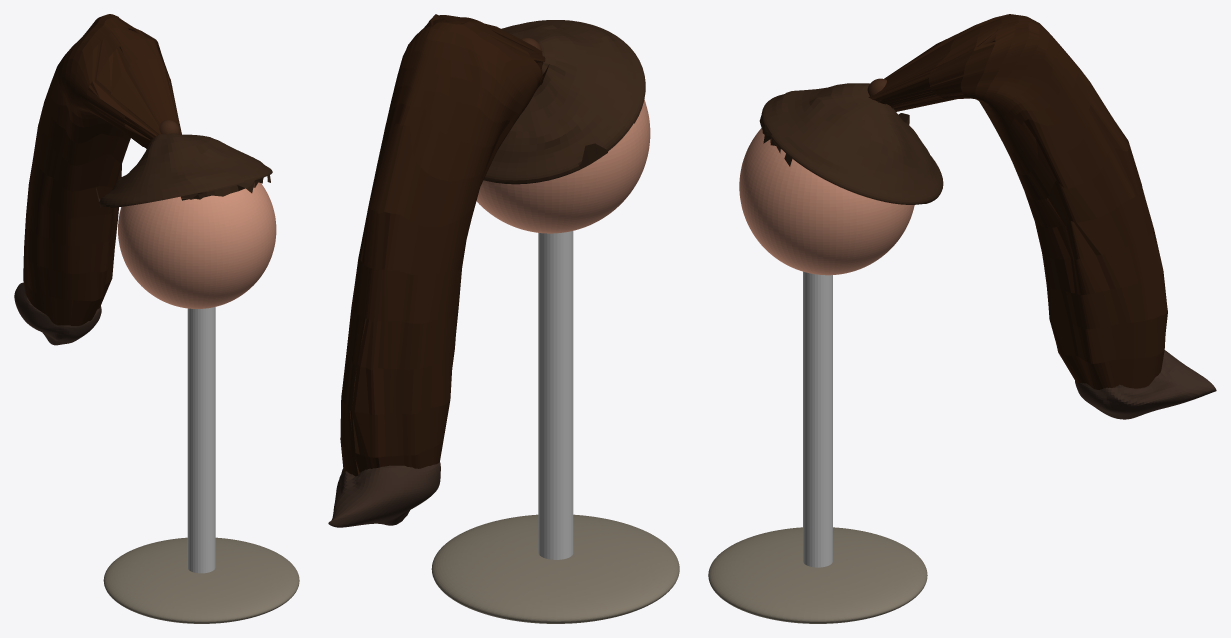
The model's file is ariana grande ponytail Colored.glb.
3 views of the same model, side by side, from view 1: azimuth 30°, elevation 25°; view 2: azimuth 150°, elevation 25°; view 3: azimuth 270°, elevation 25° (orthographic). The views are drawn at different scales.
Visible parts, largest first — view 1: Sphere, Sphere.003, Sphere.004; view 2: Sphere, Sphere.003, Sphere.004; view 3: Sphere, Sphere.003, Sphere.004.
Part boxes in pixels (x1,y1,x2,y2): Sphere: [14, 14, 272, 345]; Sphere.003: [103, 307, 299, 623]; Sphere.004: [118, 182, 276, 308]; Sphere: [328, 14, 645, 527]; Sphere.003: [431, 231, 679, 623]; Sphere.004: [476, 99, 650, 233]; Sphere: [759, 14, 1216, 419]; Sphere.003: [708, 271, 927, 623]; Sphere.004: [739, 128, 914, 275].
Bounding box in the file's own units: 2 × 5.76 × 4.64.
